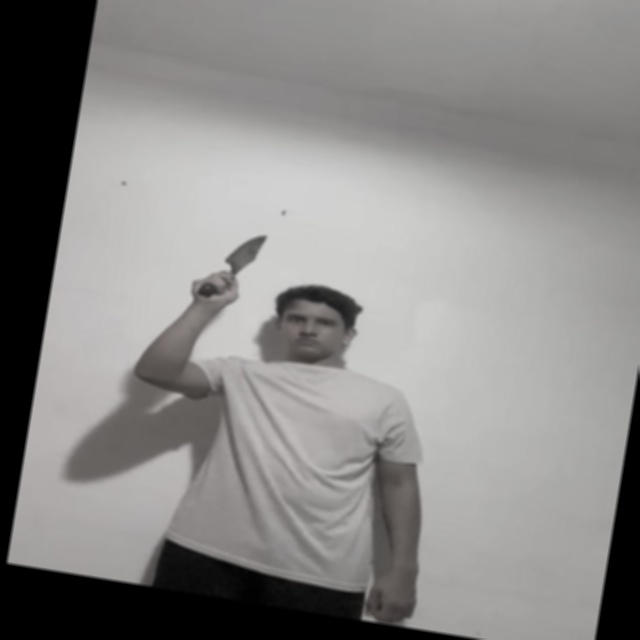Sharp-Object: (217, 228, 275, 279)
